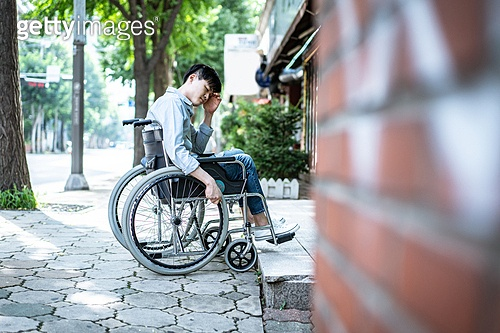wheelchair: (107, 63, 300, 277)
